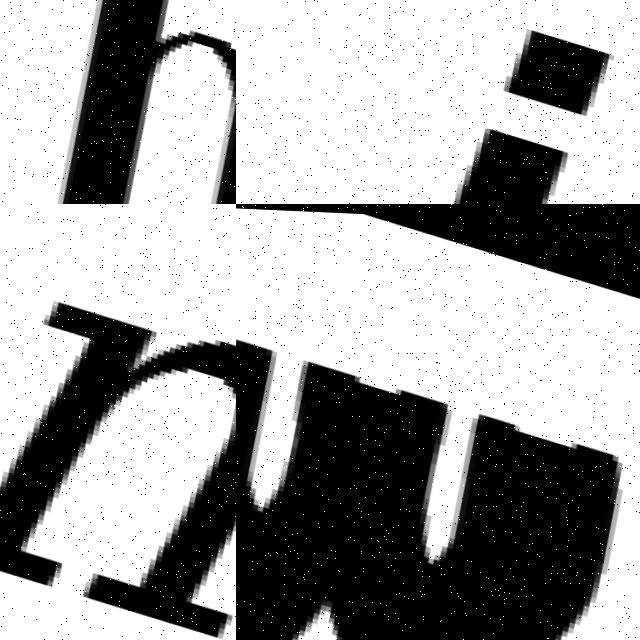B: (55, 0, 236, 204)
J: (236, 0, 640, 204)
M: (0, 242, 236, 640)
W: (236, 276, 640, 640)
